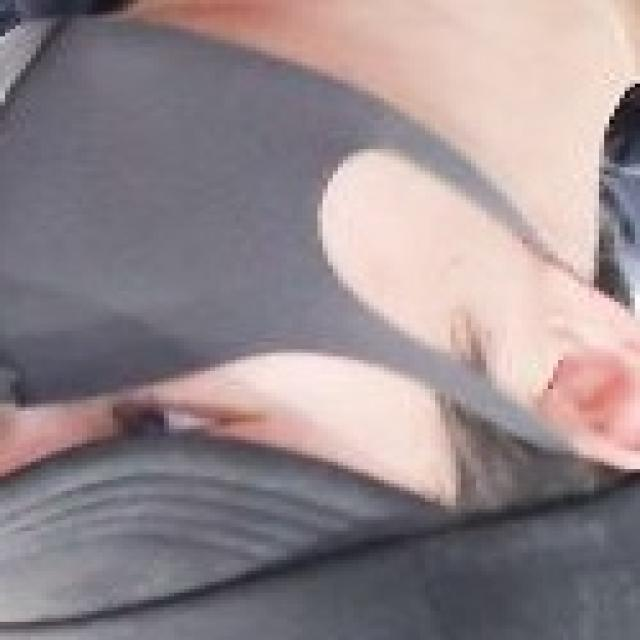Mask: (5, 16, 438, 431)
